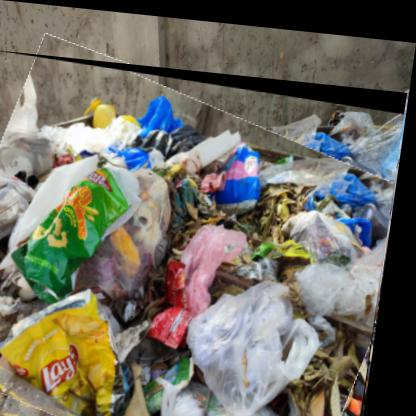Garbage: (1, 51, 411, 416)
